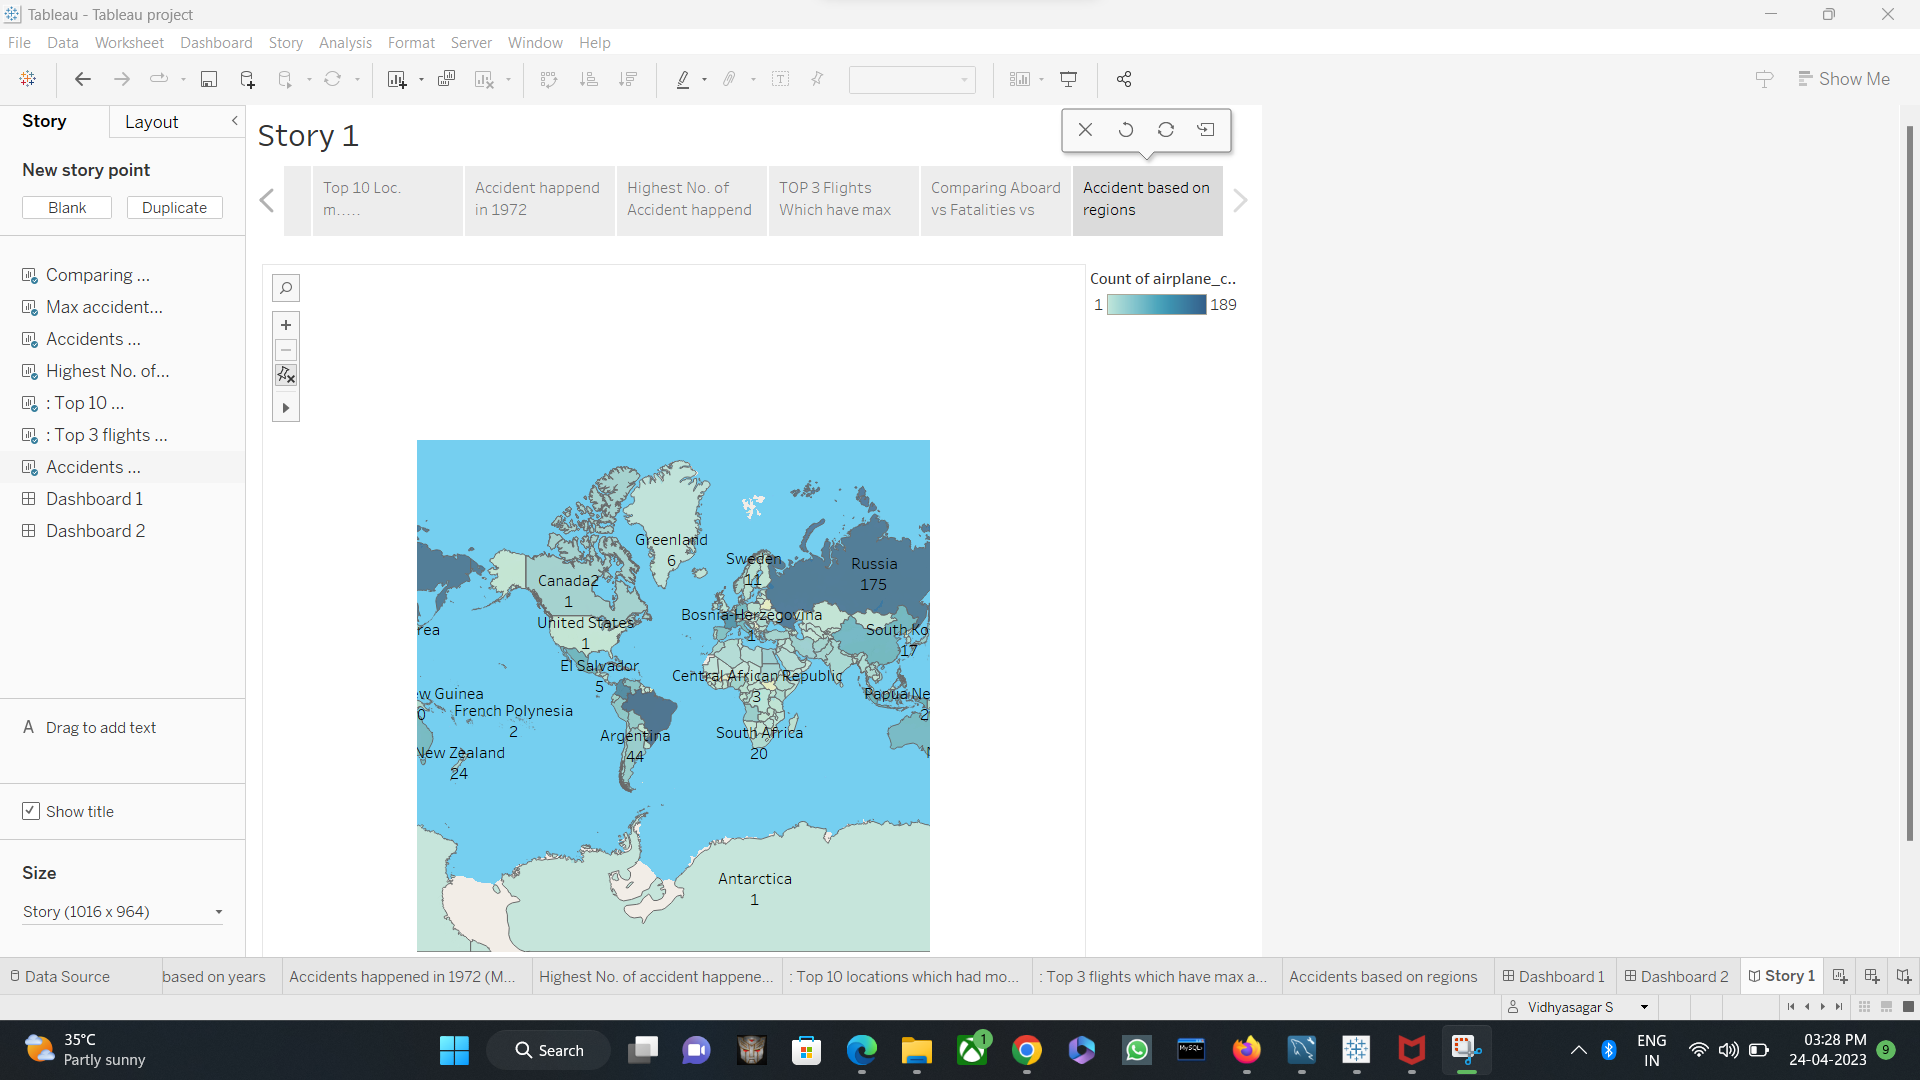

The dashboard page shown, as its layout file describes it:
{"tool":"tableau","page":{"name":"Dashboard 2","canvas":[1000,800],"ordinal":1},"visuals":[{"type":"worksheet","title":"Accidents based on regions","mark":"Automatic","box":[8,8,824,784]},{"type":"legend","title":"Accidents based on regions","param":"[federated.0fcok461ikxv8c1a9cy0o0rd9jlm].[__tableau_internal_object_id__].[cnt:a","box":[832,8,160,73]},{"type":"dashboard-object","box":[672,27,164,52]}]}

Visuals, with their boxes on the page's 1000x800 design canvas (x1, y1, x2, y2). These are canvas units, not pixel positions in the 1920x1080 screenshot, which may show the page scaled, cropped or inside an application window:
"Accidents based on regions" worksheet: x1=8, y1=8, x2=832, y2=792
"Accidents based on regions" legend: x1=832, y1=8, x2=992, y2=81
dashboard-object: x1=672, y1=27, x2=836, y2=79
